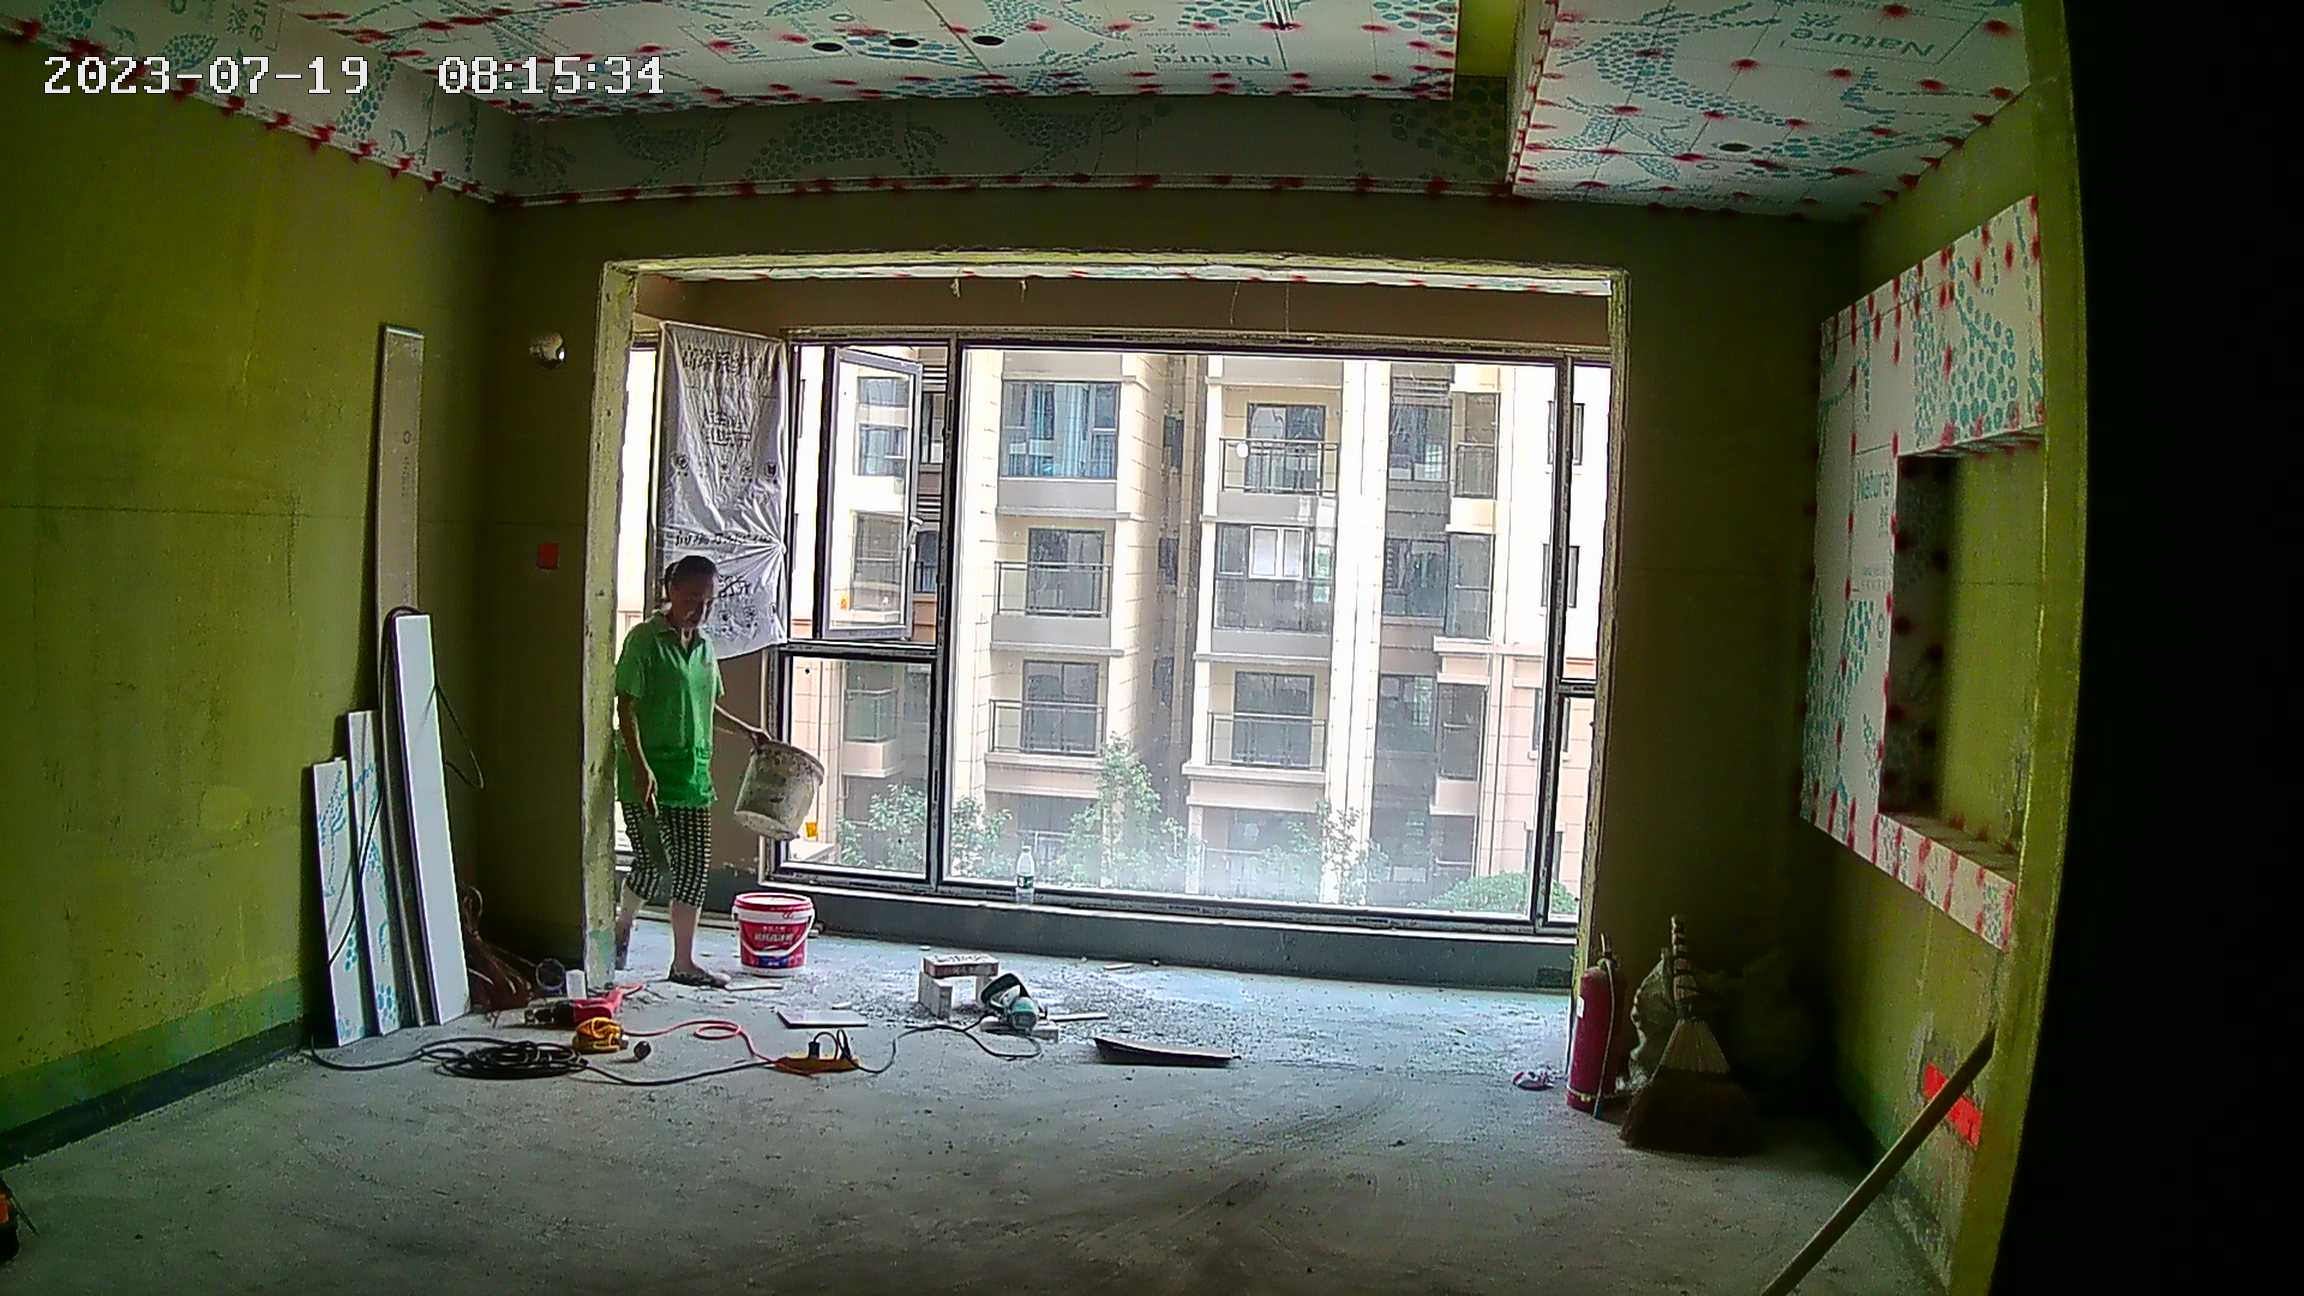people: (615, 553, 767, 996)
window: (786, 340, 1598, 940)
